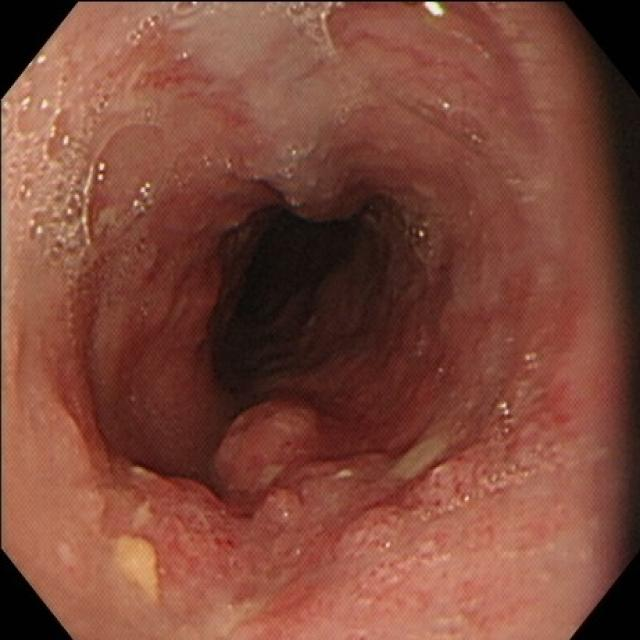A: (262, 456, 399, 604), (119, 459, 256, 607), (207, 391, 336, 495), (399, 433, 512, 517)
E: (209, 207, 387, 383)
T: (4, 56, 175, 278), (304, 3, 530, 132)
U: (422, 2, 447, 20)
